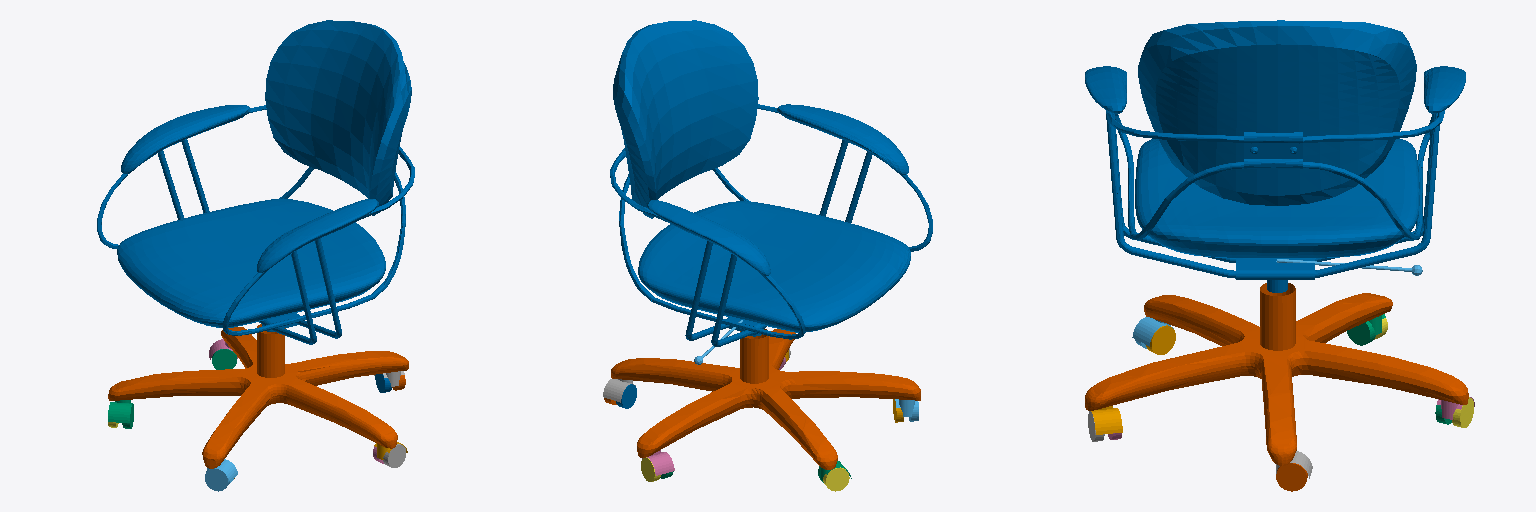
URDF robot description (partnet_972355f42223e6199cd431573238602d):
<?xml version="1.0" ?>
<robot name="partnet_972355f42223e6199cd431573238602d">
	<link name="base"/>
	<link name="link_0">
		<visual name="knob-64">
			<origin xyz="0.10662129843374718 0.2718057001110258 0"/>
			<geometry>
				<mesh filename="textured_objs/original-57.obj"/>
			</geometry>
		</visual>
		<visual name="knob-64">
			<origin xyz="0.10662129843374718 0.2718057001110258 0"/>
			<geometry>
				<mesh filename="textured_objs/original-54.obj"/>
			</geometry>
		</visual>
		<collision>
			<origin xyz="0.10662129843374718 0.2718057001110258 0"/>
			<geometry>
				<mesh filename="textured_objs/original-57.obj"/>
			</geometry>
		</collision>
		<collision>
			<origin xyz="0.10662129843374718 0.2718057001110258 0"/>
			<geometry>
				<mesh filename="textured_objs/original-54.obj"/>
			</geometry>
		</collision>
	</link>
	<joint name="joint_0" type="revolute">
		<origin xyz="-0.1148232316388749 -0.2718057001110258 -0.05943676114082336"/>
		<axis xyz="0 0 1"/>
		<child link="link_0"/>
		<parent link="link_11"/>
		<limit lower="0.0" upper="0.22619467105846508"/>
	</joint>
	<link name="link_1">
		<visual name="wheel-42">
			<origin xyz="0.09363833915328418 0.735075943713968 -0.18552630677876125"/>
			<geometry>
				<mesh filename="textured_objs/original-36.obj"/>
			</geometry>
		</visual>
		<collision>
			<origin xyz="0.09363833915328418 0.735075943713968 -0.18552630677876125"/>
			<geometry>
				<mesh filename="textured_objs/original-36.obj"/>
			</geometry>
		</collision>
	</link>
	<joint name="joint_1" type="continuous">
		<origin xyz="0.4599586608467158 -0.735075943713968 0.2661423067787613"/>
		<axis xyz="0.8925854475194669 9.462854581938143e-05 0.45087826508040024"/>
		<child link="link_1"/>
		<parent link="link_13"/>
	</joint>
	<link name="link_2">
		<visual name="wheel-43">
			<origin xyz="0.09363833915328418 0.735075943713968 -0.18552630677876125"/>
			<geometry>
				<mesh filename="textured_objs/original-37.obj"/>
			</geometry>
		</visual>
		<collision>
			<origin xyz="0.09363833915328418 0.735075943713968 -0.18552630677876125"/>
			<geometry>
				<mesh filename="textured_objs/original-37.obj"/>
			</geometry>
		</collision>
	</link>
	<joint name="joint_2" type="continuous">
		<origin xyz="0.4599586608467158 -0.735075943713968 0.2661423067787613"/>
		<axis xyz="0.8925854475194669 9.462854581938143e-05 0.45087826508040024"/>
		<child link="link_2"/>
		<parent link="link_13"/>
	</joint>
	<link name="link_3">
		<visual name="wheel-38">
			<origin xyz="0.10411454934796291 0.7351137364604184 0.01221491713943075"/>
			<geometry>
				<mesh filename="textured_objs/original-31.obj"/>
			</geometry>
		</visual>
		<collision>
			<origin xyz="0.10411454934796291 0.7351137364604184 0.01221491713943075"/>
			<geometry>
				<mesh filename="textured_objs/original-31.obj"/>
			</geometry>
		</collision>
	</link>
	<joint name="joint_3" type="continuous">
		<origin xyz="-0.0900510493479629 -0.7351137364604184 0.5080175828605692"/>
		<axis xyz="0.11666230901230853 -2.0043823589196747e-05 -0.9931716393726524"/>
		<child link="link_3"/>
		<parent link="link_14"/>
	</joint>
	<link name="link_4">
		<visual name="wheel-39">
			<origin xyz="0.10411454934796291 0.7351137364604184 0.01221491713943075"/>
			<geometry>
				<mesh filename="textured_objs/original-32.obj"/>
			</geometry>
		</visual>
		<collision>
			<origin xyz="0.10411454934796291 0.7351137364604184 0.01221491713943075"/>
			<geometry>
				<mesh filename="textured_objs/original-32.obj"/>
			</geometry>
		</collision>
	</link>
	<joint name="joint_4" type="continuous">
		<origin xyz="-0.0900510493479629 -0.7351137364604184 0.5080175828605692"/>
		<axis xyz="0.11666230901230853 -2.0043823589196747e-05 -0.9931716393726524"/>
		<child link="link_4"/>
		<parent link="link_14"/>
	</joint>
	<link name="link_5">
		<visual name="wheel-34">
			<origin xyz="0.008018772424909127 0.7350124238633533 0.033868182140399626"/>
			<geometry>
				<mesh filename="textured_objs/original-26.obj"/>
			</geometry>
		</visual>
		<collision>
			<origin xyz="0.008018772424909127 0.7350124238633533 0.033868182140399626"/>
			<geometry>
				<mesh filename="textured_objs/original-26.obj"/>
			</geometry>
		</collision>
	</link>
	<joint name="joint_5" type="continuous">
		<origin xyz="-0.5797277724249091 -0.7350124238633533 0.10589381785960036"/>
		<axis xyz="0.9732348833257728 -2.831497491573488e-05 -0.22981266517781748"/>
		<child link="link_5"/>
		<parent link="link_15"/>
	</joint>
	<link name="link_6">
		<visual name="wheel-35">
			<origin xyz="0.008018772424909127 0.7350124238633533 0.033868182140399626"/>
			<geometry>
				<mesh filename="textured_objs/original-27.obj"/>
			</geometry>
		</visual>
		<collision>
			<origin xyz="0.008018772424909127 0.7350124238633533 0.033868182140399626"/>
			<geometry>
				<mesh filename="textured_objs/original-27.obj"/>
			</geometry>
		</collision>
	</link>
	<joint name="joint_6" type="continuous">
		<origin xyz="-0.5797277724249091 -0.7350124238633533 0.10589381785960036"/>
		<axis xyz="0.9732348833257728 -2.831497491573488e-05 -0.22981266517781748"/>
		<child link="link_6"/>
		<parent link="link_15"/>
	</joint>
	<link name="link_7">
		<visual name="wheel-26">
			<origin xyz="0.0056930499171572516 0.739085879567008 -0.004463832860081353"/>
			<geometry>
				<mesh filename="textured_objs/original-41.obj"/>
			</geometry>
		</visual>
		<collision>
			<origin xyz="0.0056930499171572516 0.739085879567008 -0.004463832860081353"/>
			<geometry>
				<mesh filename="textured_objs/original-41.obj"/>
			</geometry>
		</collision>
	</link>
	<joint name="joint_7" type="continuous">
		<origin xyz="-0.3850880499171573 -0.739085879567008 -0.5362821671399186"/>
		<axis xyz="-0.619780645478474 3.428214740581848e-05 -0.7847750953712922"/>
		<child link="link_7"/>
		<parent link="link_16"/>
	</joint>
	<link name="link_8">
		<visual name="wheel-27">
			<origin xyz="0.0056930499171572516 0.739085879567008 -0.004463832860081353"/>
			<geometry>
				<mesh filename="textured_objs/original-42.obj"/>
			</geometry>
		</visual>
		<collision>
			<origin xyz="0.0056930499171572516 0.739085879567008 -0.004463832860081353"/>
			<geometry>
				<mesh filename="textured_objs/original-42.obj"/>
			</geometry>
		</collision>
	</link>
	<joint name="joint_8" type="continuous">
		<origin xyz="-0.3850880499171573 -0.739085879567008 -0.5362821671399186"/>
		<axis xyz="-0.619780645478474 3.428214740581848e-05 -0.7847750953712922"/>
		<child link="link_8"/>
		<parent link="link_16"/>
	</joint>
	<link name="link_9">
		<visual name="wheel-22">
			<origin xyz="-0.12090983243697472 0.7351062085313982 -0.0999969620258475"/>
			<geometry>
				<mesh filename="textured_objs/original-21.obj"/>
			</geometry>
		</visual>
		<collision>
			<origin xyz="-0.12090983243697472 0.7351062085313982 -0.0999969620258475"/>
			<geometry>
				<mesh filename="textured_objs/original-21.obj"/>
			</geometry>
		</collision>
	</link>
	<joint name="joint_9" type="continuous">
		<origin xyz="0.42668033243697473 -0.7351062085313982 -0.46844303797415254"/>
		<axis xyz="-0.637419879371478 -2.8578490703480063e-05 0.7705166426270884"/>
		<child link="link_9"/>
		<parent link="link_17"/>
	</joint>
	<link name="link_10">
		<visual name="wheel-23">
			<origin xyz="-0.12090983243697472 0.7351062085313982 -0.0999969620258475"/>
			<geometry>
				<mesh filename="textured_objs/original-22.obj"/>
			</geometry>
		</visual>
		<collision>
			<origin xyz="-0.12090983243697472 0.7351062085313982 -0.0999969620258475"/>
			<geometry>
				<mesh filename="textured_objs/original-22.obj"/>
			</geometry>
		</collision>
	</link>
	<joint name="joint_10" type="continuous">
		<origin xyz="0.42668033243697473 -0.7351062085313982 -0.46844303797415254"/>
		<axis xyz="-0.637419879371478 -2.8578490703480063e-05 0.7705166426270884"/>
		<child link="link_10"/>
		<parent link="link_17"/>
	</joint>
	<link name="link_11">
		<visual name="back_hard_surface-58">
			<origin xyz="-0.008201933205127718 0 -0.05943676114082336"/>
			<geometry>
				<mesh filename="textured_objs/original-56.obj"/>
			</geometry>
		</visual>
		<visual name="back_support-57">
			<origin xyz="-0.008201933205127718 0 -0.05943676114082336"/>
			<geometry>
				<mesh filename="textured_objs/original-15.obj"/>
			</geometry>
		</visual>
		<visual name="back_support-57">
			<origin xyz="-0.008201933205127718 0 -0.05943676114082336"/>
			<geometry>
				<mesh filename="textured_objs/original-14.obj"/>
			</geometry>
		</visual>
		<visual name="back_support-57">
			<origin xyz="-0.008201933205127718 0 -0.05943676114082336"/>
			<geometry>
				<mesh filename="textured_objs/original-16.obj"/>
			</geometry>
		</visual>
		<visual name="armrest_hard_surface-53">
			<origin xyz="-0.008201933205127718 0 -0.05943676114082336"/>
			<geometry>
				<mesh filename="textured_objs/new-7.obj"/>
			</geometry>
		</visual>
		<visual name="arm_vertical_bar-54">
			<origin xyz="-0.008201933205127718 0 -0.05943676114082336"/>
			<geometry>
				<mesh filename="textured_objs/new-9.obj"/>
			</geometry>
		</visual>
		<visual name="arm_vertical_bar-55">
			<origin xyz="-0.008201933205127718 0 -0.05943676114082336"/>
			<geometry>
				<mesh filename="textured_objs/original-48.obj"/>
			</geometry>
		</visual>
		<visual name="arm_holistic_frame-67">
			<origin xyz="-0.008201933205127718 0 -0.05943676114082336"/>
			<geometry>
				<mesh filename="textured_objs/original-52.obj"/>
			</geometry>
		</visual>
		<visual name="armrest_hard_surface-50">
			<origin xyz="-0.008201933205127718 0 -0.05943676114082336"/>
			<geometry>
				<mesh filename="textured_objs/original-51.obj"/>
			</geometry>
		</visual>
		<visual name="arm_vertical_bar-51">
			<origin xyz="-0.008201933205127718 0 -0.05943676114082336"/>
			<geometry>
				<mesh filename="textured_objs/new-6.obj"/>
			</geometry>
		</visual>
		<visual name="arm_vertical_bar-52">
			<origin xyz="-0.008201933205127718 0 -0.05943676114082336"/>
			<geometry>
				<mesh filename="textured_objs/new-10.obj"/>
			</geometry>
		</visual>
		<visual name="arm_holistic_frame-68">
			<origin xyz="-0.008201933205127718 0 -0.05943676114082336"/>
			<geometry>
				<mesh filename="textured_objs/original-49.obj"/>
			</geometry>
		</visual>
		<visual name="seat_hard_surface-49">
			<origin xyz="-0.008201933205127718 0 -0.05943676114082336"/>
			<geometry>
				<mesh filename="textured_objs/original-45.obj"/>
			</geometry>
		</visual>
		<visual name="seat_support-66">
			<origin xyz="-0.008201933205127718 0 -0.05943676114082336"/>
			<geometry>
				<mesh filename="textured_objs/original-46.obj"/>
			</geometry>
		</visual>
		<visual name="central_support-44">
			<origin xyz="-0.008201933205127718 0 -0.05943676114082336"/>
			<geometry>
				<mesh filename="textured_objs/original-55.obj"/>
			</geometry>
		</visual>
		<visual name="seat_connector-65">
			<origin xyz="-0.008201933205127718 0 -0.05943676114082336"/>
			<geometry>
				<mesh filename="textured_objs/original-2.obj"/>
			</geometry>
		</visual>
		<visual name="seat_connector-65">
			<origin xyz="-0.008201933205127718 0 -0.05943676114082336"/>
			<geometry>
				<mesh filename="textured_objs/new-11.obj"/>
			</geometry>
		</visual>
		<visual name="seat_connector-65">
			<origin xyz="-0.008201933205127718 0 -0.05943676114082336"/>
			<geometry>
				<mesh filename="textured_objs/new-8.obj"/>
			</geometry>
		</visual>
		<collision>
			<origin xyz="-0.008201933205127718 0 -0.05943676114082336"/>
			<geometry>
				<mesh filename="textured_objs/original-56.obj"/>
			</geometry>
		</collision>
		<collision>
			<origin xyz="-0.008201933205127718 0 -0.05943676114082336"/>
			<geometry>
				<mesh filename="textured_objs/original-15.obj"/>
			</geometry>
		</collision>
		<collision>
			<origin xyz="-0.008201933205127718 0 -0.05943676114082336"/>
			<geometry>
				<mesh filename="textured_objs/original-14.obj"/>
			</geometry>
		</collision>
		<collision>
			<origin xyz="-0.008201933205127718 0 -0.05943676114082336"/>
			<geometry>
				<mesh filename="textured_objs/original-16.obj"/>
			</geometry>
		</collision>
		<collision>
			<origin xyz="-0.008201933205127718 0 -0.05943676114082336"/>
			<geometry>
				<mesh filename="textured_objs/new-7.obj"/>
			</geometry>
		</collision>
		<collision>
			<origin xyz="-0.008201933205127718 0 -0.05943676114082336"/>
			<geometry>
				<mesh filename="textured_objs/new-9.obj"/>
			</geometry>
		</collision>
		<collision>
			<origin xyz="-0.008201933205127718 0 -0.05943676114082336"/>
			<geometry>
				<mesh filename="textured_objs/original-48.obj"/>
			</geometry>
		</collision>
		<collision>
			<origin xyz="-0.008201933205127718 0 -0.05943676114082336"/>
			<geometry>
				<mesh filename="textured_objs/original-52.obj"/>
			</geometry>
		</collision>
		<collision>
			<origin xyz="-0.008201933205127718 0 -0.05943676114082336"/>
			<geometry>
				<mesh filename="textured_objs/original-51.obj"/>
			</geometry>
		</collision>
		<collision>
			<origin xyz="-0.008201933205127718 0 -0.05943676114082336"/>
			<geometry>
				<mesh filename="textured_objs/new-6.obj"/>
			</geometry>
		</collision>
		<collision>
			<origin xyz="-0.008201933205127718 0 -0.05943676114082336"/>
			<geometry>
				<mesh filename="textured_objs/new-10.obj"/>
			</geometry>
		</collision>
		<collision>
			<origin xyz="-0.008201933205127718 0 -0.05943676114082336"/>
			<geometry>
				<mesh filename="textured_objs/original-49.obj"/>
			</geometry>
		</collision>
		<collision>
			<origin xyz="-0.008201933205127718 0 -0.05943676114082336"/>
			<geometry>
				<mesh filename="textured_objs/original-45.obj"/>
			</geometry>
		</collision>
		<collision>
			<origin xyz="-0.008201933205127718 0 -0.05943676114082336"/>
			<geometry>
				<mesh filename="textured_objs/original-46.obj"/>
			</geometry>
		</collision>
		<collision>
			<origin xyz="-0.008201933205127718 0 -0.05943676114082336"/>
			<geometry>
				<mesh filename="textured_objs/original-55.obj"/>
			</geometry>
		</collision>
		<collision>
			<origin xyz="-0.008201933205127718 0 -0.05943676114082336"/>
			<geometry>
				<mesh filename="textured_objs/original-2.obj"/>
			</geometry>
		</collision>
		<collision>
			<origin xyz="-0.008201933205127718 0 -0.05943676114082336"/>
			<geometry>
				<mesh filename="textured_objs/new-11.obj"/>
			</geometry>
		</collision>
		<collision>
			<origin xyz="-0.008201933205127718 0 -0.05943676114082336"/>
			<geometry>
				<mesh filename="textured_objs/new-8.obj"/>
			</geometry>
		</collision>
	</link>
	<joint name="joint_11" type="continuous">
		<origin xyz="0.0 0 0.0"/>
		<axis xyz="0 1 0"/>
		<child link="link_11"/>
		<parent link="link_11_helper"/>
	</joint>
	<link name="link_12">
		<visual name="central_support-7">
			<origin xyz="0 0 0"/>
			<geometry>
				<mesh filename="textured_objs/original-53.obj"/>
			</geometry>
		</visual>
		<visual name="central_support-8">
			<origin xyz="0 0 0"/>
			<geometry>
				<mesh filename="textured_objs/new-5.obj"/>
			</geometry>
		</visual>
		<visual name="leg-10">
			<origin xyz="0 0 0"/>
			<geometry>
				<mesh filename="textured_objs/new-2.obj"/>
			</geometry>
		</visual>
		<visual name="leg-11">
			<origin xyz="0 0 0"/>
			<geometry>
				<mesh filename="textured_objs/new-3.obj"/>
			</geometry>
		</visual>
		<visual name="leg-12">
			<origin xyz="0 0 0"/>
			<geometry>
				<mesh filename="textured_objs/new-1.obj"/>
			</geometry>
		</visual>
		<visual name="leg-13">
			<origin xyz="0 0 0"/>
			<geometry>
				<mesh filename="textured_objs/new-0.obj"/>
			</geometry>
		</visual>
		<visual name="leg-14">
			<origin xyz="0 0 0"/>
			<geometry>
				<mesh filename="textured_objs/new-4.obj"/>
			</geometry>
		</visual>
		<collision>
			<origin xyz="0 0 0"/>
			<geometry>
				<mesh filename="textured_objs/original-53.obj"/>
			</geometry>
		</collision>
		<collision>
			<origin xyz="0 0 0"/>
			<geometry>
				<mesh filename="textured_objs/new-5.obj"/>
			</geometry>
		</collision>
		<collision>
			<origin xyz="0 0 0"/>
			<geometry>
				<mesh filename="textured_objs/new-2.obj"/>
			</geometry>
		</collision>
		<collision>
			<origin xyz="0 0 0"/>
			<geometry>
				<mesh filename="textured_objs/new-3.obj"/>
			</geometry>
		</collision>
		<collision>
			<origin xyz="0 0 0"/>
			<geometry>
				<mesh filename="textured_objs/new-1.obj"/>
			</geometry>
		</collision>
		<collision>
			<origin xyz="0 0 0"/>
			<geometry>
				<mesh filename="textured_objs/new-0.obj"/>
			</geometry>
		</collision>
		<collision>
			<origin xyz="0 0 0"/>
			<geometry>
				<mesh filename="textured_objs/new-4.obj"/>
			</geometry>
		</collision>
	</link>
	<joint name="joint_12" type="fixed">
		<origin rpy="1.570796326794897 0 -1.570796326794897" xyz="0 0 0"/>
		<child link="link_12"/>
		<parent link="base"/>
	</joint>
	<link name="link_13">
		<visual name="caster_yoke-40">
			<origin xyz="0.553597 0 0.080616"/>
			<geometry>
				<mesh filename="textured_objs/original-34.obj"/>
			</geometry>
		</visual>
		<visual name="caster_stem-41">
			<origin xyz="0.553597 0 0.080616"/>
			<geometry>
				<mesh filename="textured_objs/original-35.obj"/>
			</geometry>
		</visual>
		<collision>
			<origin xyz="0.553597 0 0.080616"/>
			<geometry>
				<mesh filename="textured_objs/original-34.obj"/>
			</geometry>
		</collision>
		<collision>
			<origin xyz="0.553597 0 0.080616"/>
			<geometry>
				<mesh filename="textured_objs/original-35.obj"/>
			</geometry>
		</collision>
	</link>
	<joint name="joint_13" type="continuous">
		<origin xyz="-0.553597 0 -0.080616"/>
		<axis xyz="0 1 0"/>
		<child link="link_13"/>
		<parent link="link_12"/>
	</joint>
	<link name="link_14">
		<visual name="caster_yoke-36">
			<origin xyz="0.0140635 0 0.5202325"/>
			<geometry>
				<mesh filename="textured_objs/original-29.obj"/>
			</geometry>
		</visual>
		<visual name="caster_stem-37">
			<origin xyz="0.0140635 0 0.5202325"/>
			<geometry>
				<mesh filename="textured_objs/original-30.obj"/>
			</geometry>
		</visual>
		<collision>
			<origin xyz="0.0140635 0 0.5202325"/>
			<geometry>
				<mesh filename="textured_objs/original-29.obj"/>
			</geometry>
		</collision>
		<collision>
			<origin xyz="0.0140635 0 0.5202325"/>
			<geometry>
				<mesh filename="textured_objs/original-30.obj"/>
			</geometry>
		</collision>
	</link>
	<joint name="joint_14" type="continuous">
		<origin xyz="-0.0140635 0 -0.5202325"/>
		<axis xyz="0 1 0"/>
		<child link="link_14"/>
		<parent link="link_12"/>
	</joint>
	<link name="link_15">
		<visual name="caster_yoke-32">
			<origin xyz="-0.571709 0 0.139762"/>
			<geometry>
				<mesh filename="textured_objs/original-24.obj"/>
			</geometry>
		</visual>
		<visual name="caster_stem-33">
			<origin xyz="-0.571709 0 0.139762"/>
			<geometry>
				<mesh filename="textured_objs/original-25.obj"/>
			</geometry>
		</visual>
		<collision>
			<origin xyz="-0.571709 0 0.139762"/>
			<geometry>
				<mesh filename="textured_objs/original-24.obj"/>
			</geometry>
		</collision>
		<collision>
			<origin xyz="-0.571709 0 0.139762"/>
			<geometry>
				<mesh filename="textured_objs/original-25.obj"/>
			</geometry>
		</collision>
	</link>
	<joint name="joint_15" type="continuous">
		<origin xyz="0.571709 0 -0.139762"/>
		<axis xyz="0 1 0"/>
		<child link="link_15"/>
		<parent link="link_12"/>
	</joint>
	<link name="link_16">
		<visual name="caster_yoke-24">
			<origin xyz="-0.37939500000000004 0 -0.540746"/>
			<geometry>
				<mesh filename="textured_objs/original-39.obj"/>
			</geometry>
		</visual>
		<visual name="caster_stem-25">
			<origin xyz="-0.37939500000000004 0 -0.540746"/>
			<geometry>
				<mesh filename="textured_objs/original-40.obj"/>
			</geometry>
		</visual>
		<collision>
			<origin xyz="-0.37939500000000004 0 -0.540746"/>
			<geometry>
				<mesh filename="textured_objs/original-39.obj"/>
			</geometry>
		</collision>
		<collision>
			<origin xyz="-0.37939500000000004 0 -0.540746"/>
			<geometry>
				<mesh filename="textured_objs/original-40.obj"/>
			</geometry>
		</collision>
	</link>
	<joint name="joint_16" type="continuous">
		<origin xyz="0.37939500000000004 0 0.540746"/>
		<axis xyz="0 1 0"/>
		<child link="link_16"/>
		<parent link="link_12"/>
	</joint>
	<link name="link_17">
		<visual name="caster_yoke-20">
			<origin xyz="0.3057705 0 -0.5684400000000001"/>
			<geometry>
				<mesh filename="textured_objs/original-19.obj"/>
			</geometry>
		</visual>
		<visual name="caster_stem-21">
			<origin xyz="0.3057705 0 -0.5684400000000001"/>
			<geometry>
				<mesh filename="textured_objs/original-20.obj"/>
			</geometry>
		</visual>
		<collision>
			<origin xyz="0.3057705 0 -0.5684400000000001"/>
			<geometry>
				<mesh filename="textured_objs/original-19.obj"/>
			</geometry>
		</collision>
		<collision>
			<origin xyz="0.3057705 0 -0.5684400000000001"/>
			<geometry>
				<mesh filename="textured_objs/original-20.obj"/>
			</geometry>
		</collision>
	</link>
	<joint name="joint_17" type="continuous">
		<origin xyz="-0.3057705 0 0.5684400000000001"/>
		<axis xyz="0 1 0"/>
		<child link="link_17"/>
		<parent link="link_12"/>
	</joint>
	<link name="link_11_helper"/>
	<joint name="joint_18" type="prismatic">
		<origin xyz="0.008201933205127718 0 0.05943676114082336"/>
		<axis xyz="0 -1 0"/>
		<child link="link_11_helper"/>
		<parent link="link_12"/>
		<limit lower="0" upper="0.04400000000000004"/>
	</joint>
</robot>

--- Facts derived from the render (not from the file) ---
Views: 3 orthographic renders of the robot side by side, from view 1: azimuth 30°, elevation 25°; view 2: azimuth 150°, elevation 25°; view 3: azimuth 270°, elevation 25°.
Model partnet_972355f42223e6199cd431573238602d with 20 links and 19 joints (1 revolute, 16 continuous, 1 prismatic, 1 fixed), rooted at base, posed all joints at 0.
Links seen in each view (by area): view 1: link_11, link_12; view 2: link_11, link_12; view 3: link_11, link_12, link_15, link_4, link_7, link_16.
Boxes of the visible links, x1,y1,x2,y2 form: link_11: (97,20,414,344); link_12: (108,324,408,468); link_11: (610,20,932,346); link_12: (611,329,920,469); link_11: (1085,20,1465,292); link_12: (1085,283,1468,465); link_15: (1091,406,1122,434); link_4: (1276,463,1307,491); link_7: (1146,325,1175,354); link_16: (1132,317,1173,346).
Bounding box of the posed robot: 1.24 × 1.27 × 1.64 m (x, y, z).
47 mesh visuals loaded from 47 distinct referenced files (47 OBJ).
